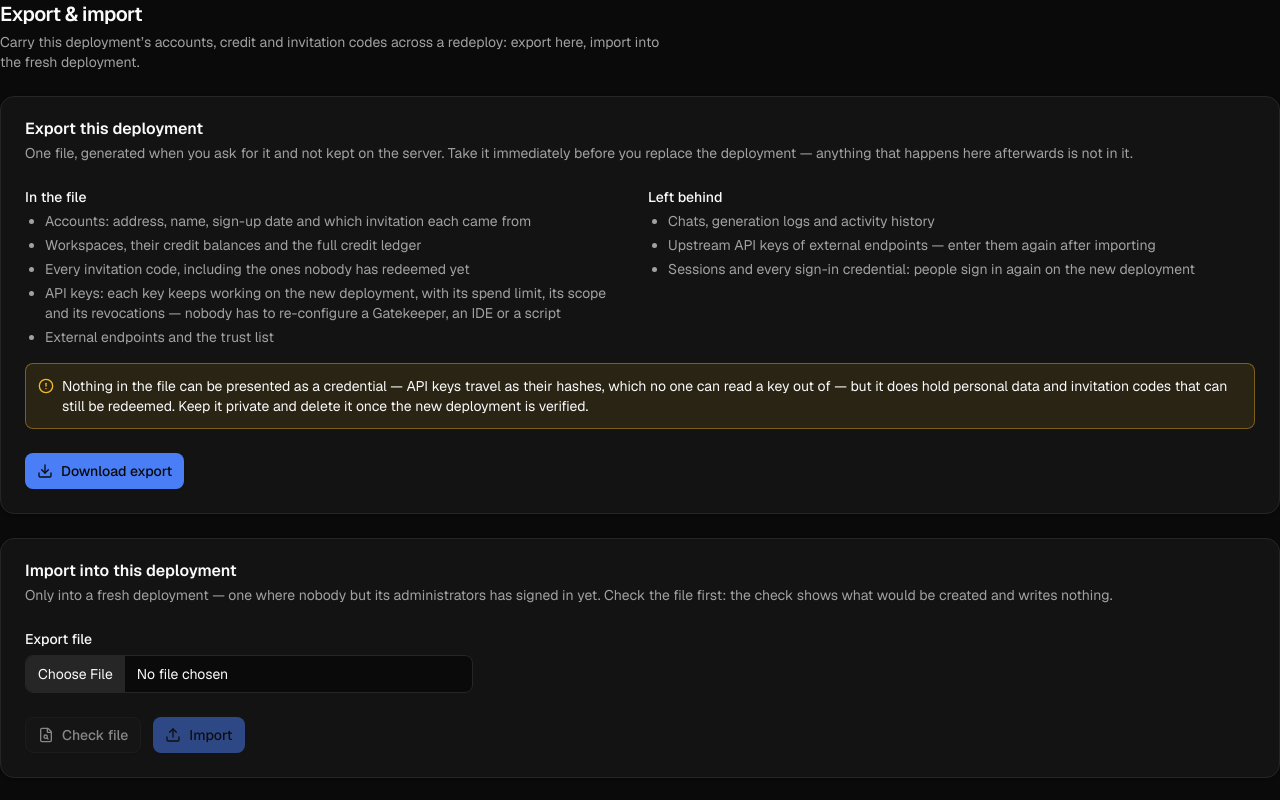
Test: DataMigrationScreen › shows the API’s refusal when the export fails
Click the button with test id "export-button" at {"x": 105, "y": 471}, box [25, 453, 184, 489]
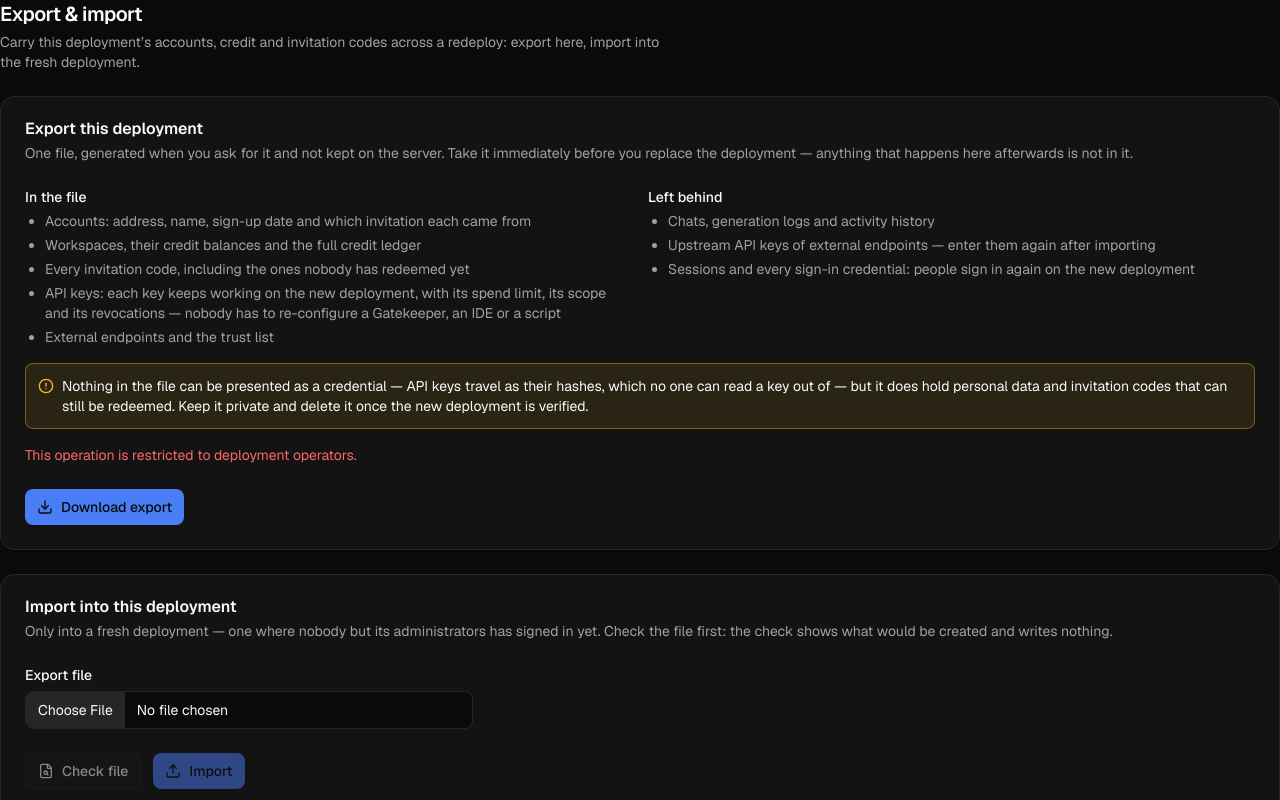
Check: the message with test id "export-error" shows "restricted to deployment operators", box [25, 446, 356, 464]
